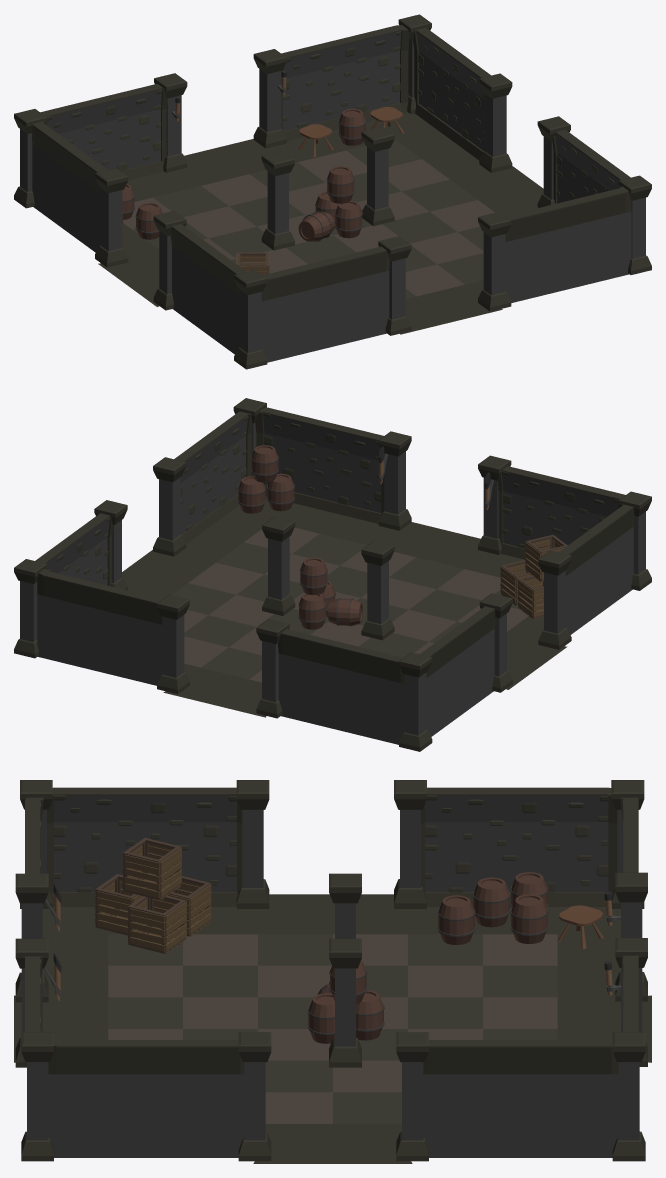
Rendered from Level2Room3.fbx.
3 renders of one model, top to bottom at view 1: azimuth 30°, elevation 25°; view 2: azimuth 150°, elevation 25°; view 3: azimuth 270°, elevation 25°, orthographic. The views are drawn at different scales.
Parts seen in each view (by area): view 1: StonePiller.001, RoomFloor.009, Barrel.027, Barrel.026, Barrel.036, Barrel.028, Barrel.032, Crate.012, Stool.018; view 2: StonePiller.001, RoomFloor.009, Crate.009, Crate.012, Barrel.035, Barrel.027, Barrel.033, Barrel.028, Barrel.034, Barrel.025, Crate.013; view 3: StonePiller.001, RoomFloor.009, Crate.012, Crate.013, Crate.011, Barrel.030, Barrel.032, Barrel.031, Crate.009, Barrel.026, Barrel.025, Stool.016 (+1 smaller).
Boxes of the visible parts, x1,y1,x2,y2 form: StonePiller.001: [14, 14, 651, 369]; RoomFloor.009: [98, 112, 543, 334]; Barrel.027: [326, 166, 354, 203]; Barrel.026: [334, 201, 362, 238]; Barrel.036: [338, 108, 366, 145]; Barrel.028: [298, 211, 334, 241]; Barrel.032: [135, 202, 162, 239]; Crate.012: [236, 252, 269, 274]; Stool.018: [298, 124, 333, 156]; StonePiller.001: [14, 398, 651, 751]; RoomFloor.009: [122, 496, 567, 717]; Crate.009: [517, 575, 543, 619]; Crate.012: [525, 534, 567, 581]; Barrel.035: [250, 445, 278, 482]; Barrel.027: [299, 557, 327, 594]; Barrel.033: [237, 476, 266, 513]; Barrel.028: [328, 598, 362, 626]; Barrel.034: [266, 473, 294, 511]; Barrel.025: [298, 593, 326, 629]; Crate.013: [500, 560, 542, 606]; StonePiller.001: [15, 780, 647, 1161]; RoomFloor.009: [14, 894, 651, 1163]; Crate.012: [122, 837, 181, 900]; Crate.013: [127, 895, 186, 953]; Crate.011: [95, 874, 146, 935]; Barrel.030: [510, 894, 548, 943]; Barrel.032: [437, 895, 475, 944]; Barrel.031: [472, 877, 510, 927]; Crate.009: [153, 874, 211, 936]; Barrel.026: [307, 993, 334, 1043]; Barrel.025: [356, 990, 384, 1040]; Stool.016: [557, 905, 603, 948].
Bounding box in the file's own units: 796 × 165 × 796.
